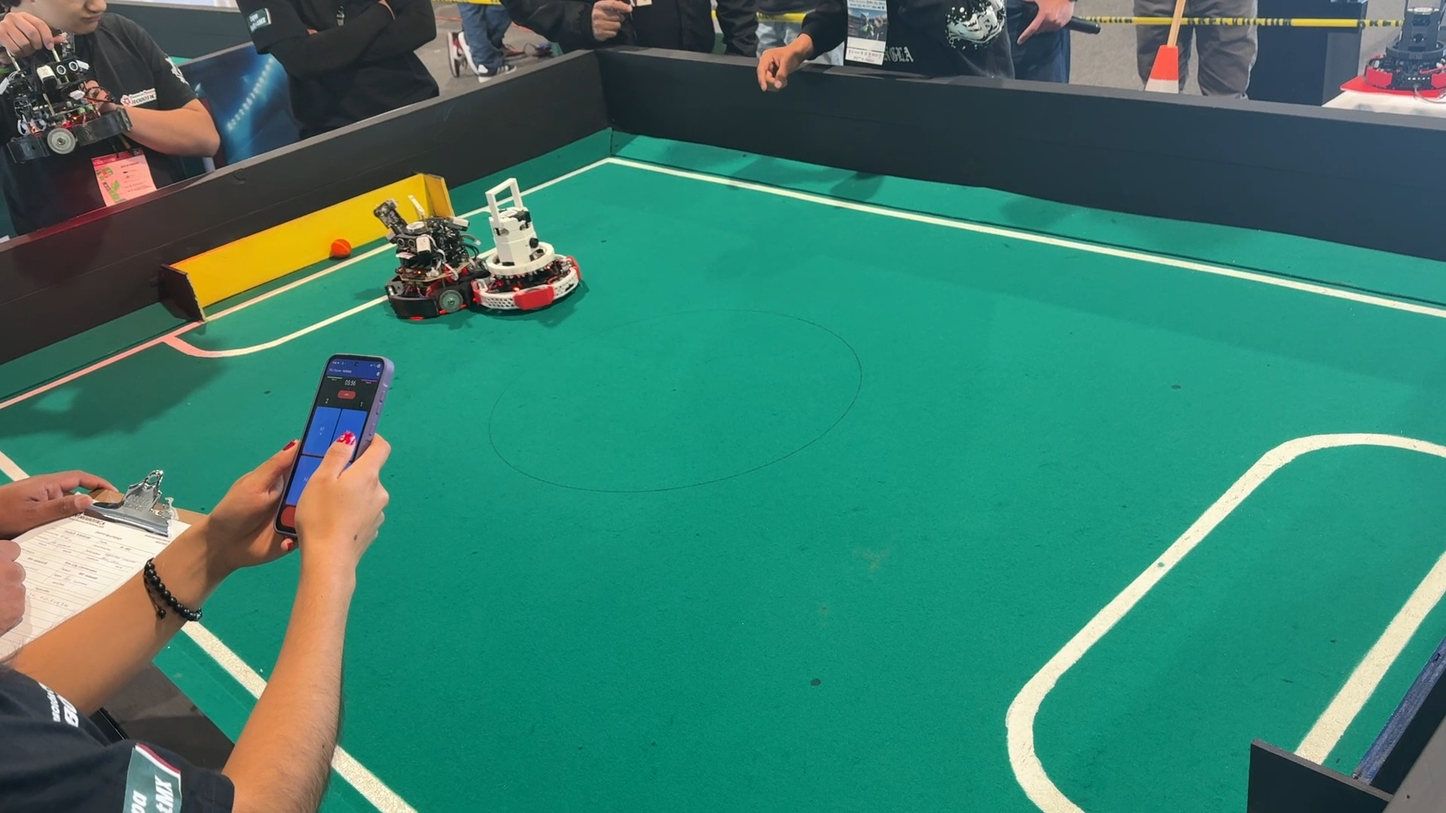Robot: (365, 174, 586, 339), (467, 170, 590, 331), (359, 181, 476, 340), (0, 26, 126, 161)
